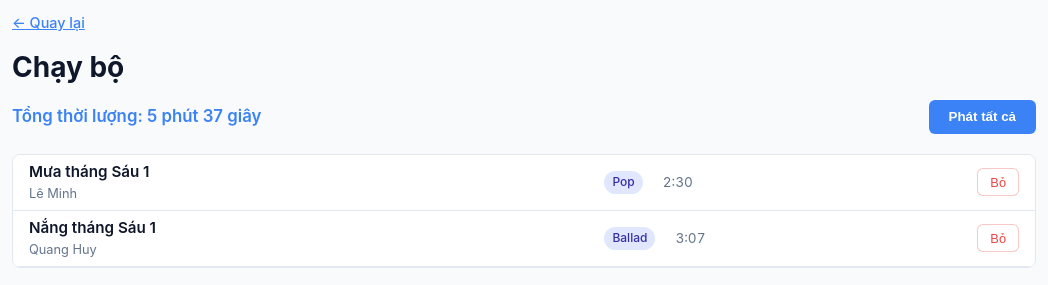
Test case: PlaylistDetailPage › bấm Bỏ để xóa bài hát khỏi playlist
The image size is (1048, 285).
Click the button "Bỏ" in the row of "2:30" at [998, 182], box [977,168,1019,196]
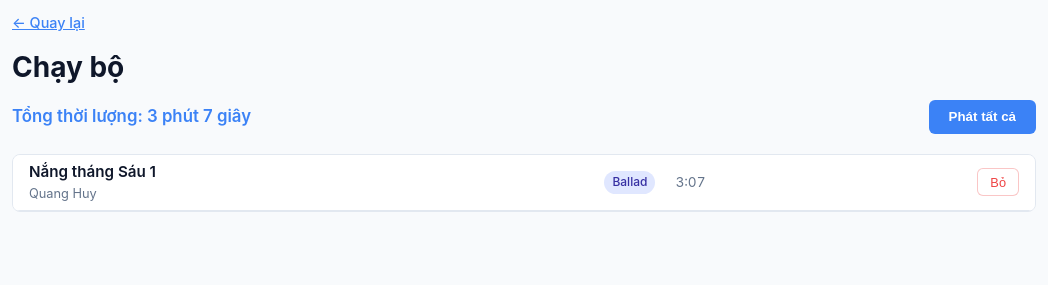
Expected: the text "Mưa tháng Sáu 1" is gone
Expected: the text "Tổng thời lượng: 3 phút 7 giây" is shown, [12,104,251,129]
